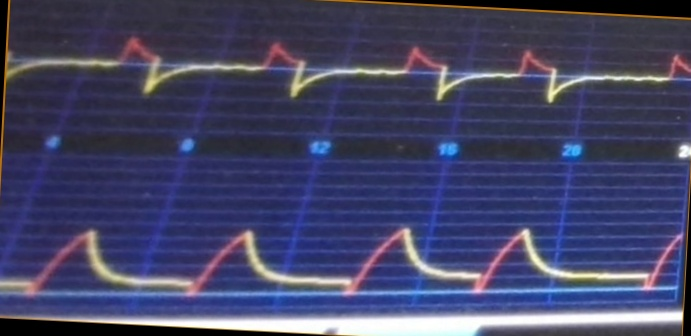Flow: (9, 25, 690, 120)
Leakage Volume: (2, 202, 681, 308)
